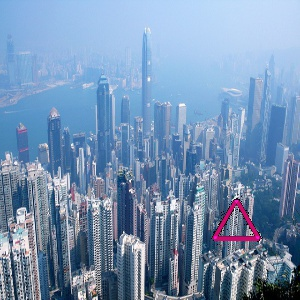triangle: (207, 195, 267, 247)
